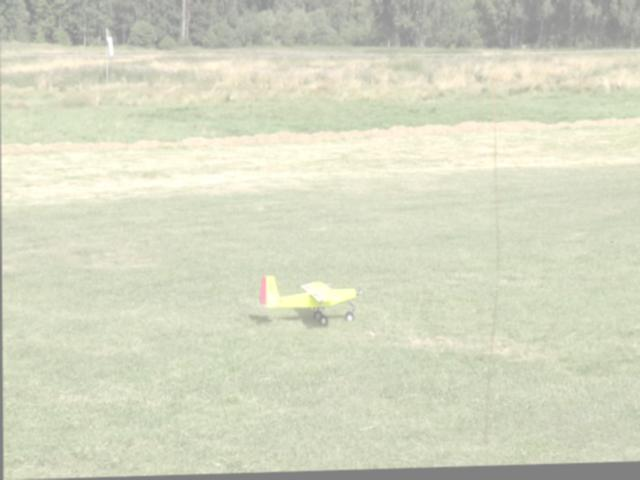plane: (259, 276, 361, 330)
